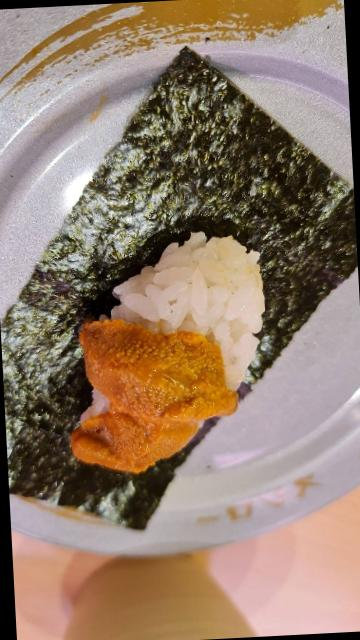janwhite: (14, 0, 360, 553)
